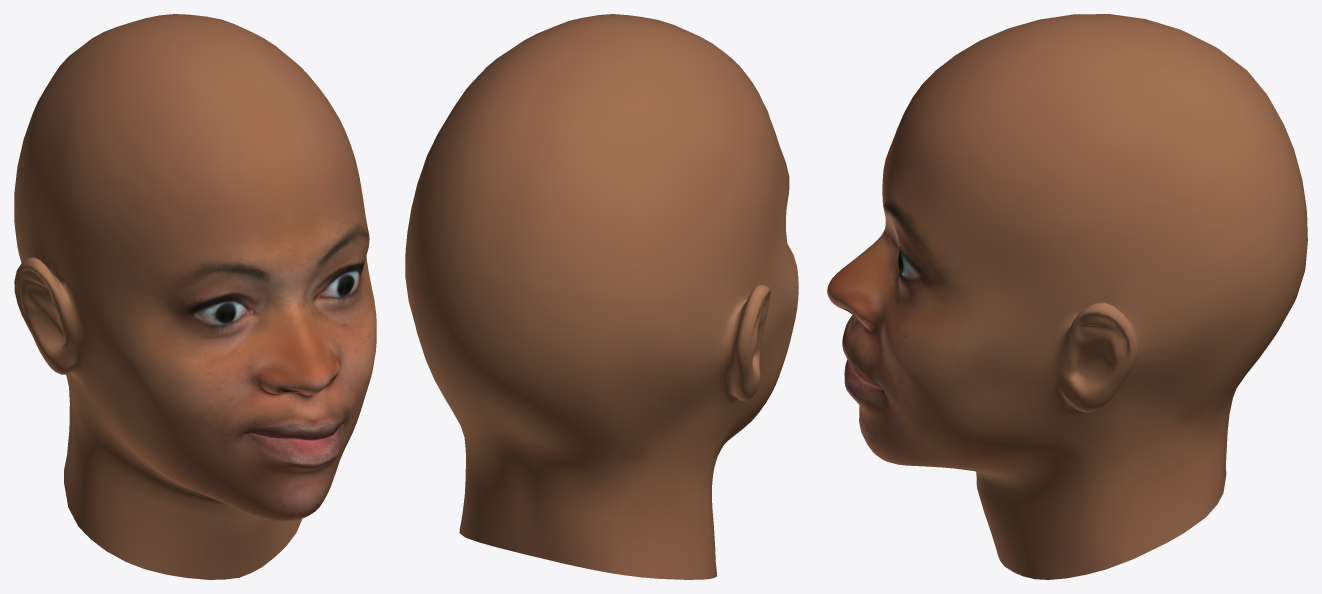
File: v332_obj_ExpressionSneerRight.obj
3 views of the same model, side by side, from view 1: azimuth 30°, elevation 25°; view 2: azimuth 150°, elevation 25°; view 3: azimuth 270°, elevation 25° (orthographic). The views are drawn at different scales.
Parts seen in each view (by area): view 1: HeadHires; view 2: HeadHires; view 3: HeadHires.
Boxes of the visible parts, box(x1,y1,x2,y2) form: HeadHires: box(14, 14, 376, 579); HeadHires: box(405, 14, 798, 579); HeadHires: box(827, 14, 1307, 579).
Bounding box in the file's own units: 187 × 282 × 233.
